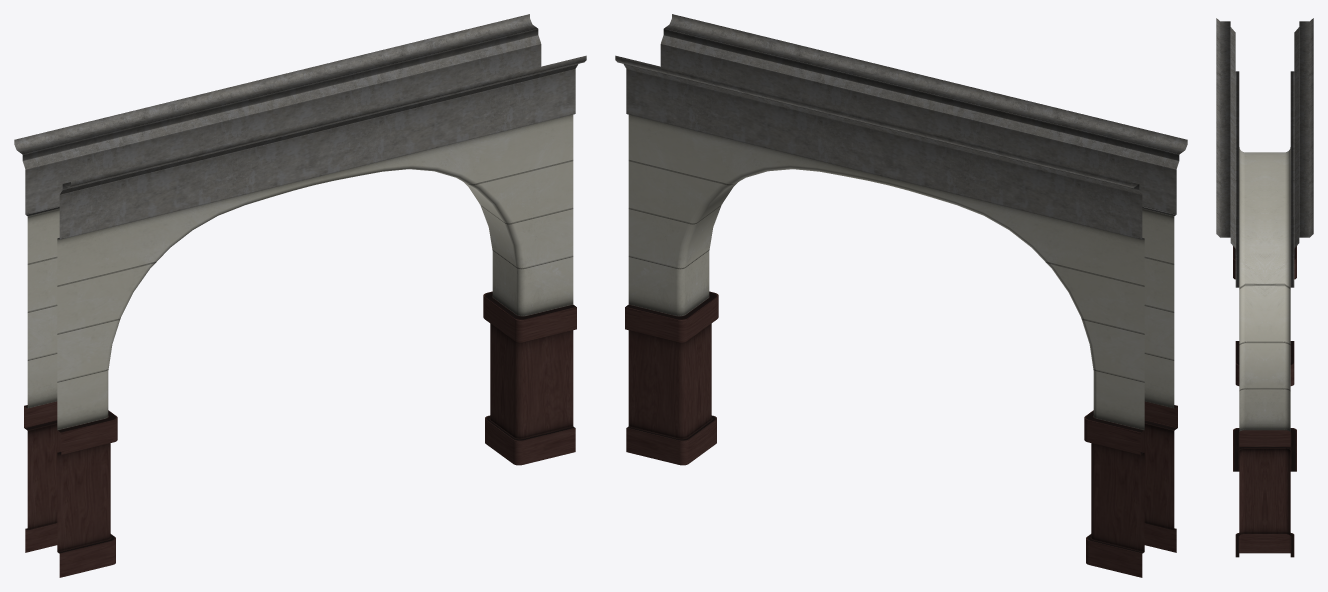
Rendered from Wall 6 Arch 2.fbx.
3 views of the same model, side by side, from view 1: azimuth 30°, elevation 25°; view 2: azimuth 150°, elevation 25°; view 3: azimuth 270°, elevation 25° (orthographic). The views are drawn at different scales.
Parts seen in each view (by area): view 1: Wall_6_Arch_2; view 2: Wall_6_Arch_2; view 3: Wall_6_Arch_2.
Part boxes in pixels (x1,y1,x2,y2): Wall_6_Arch_2: (14,14,586,577); Wall_6_Arch_2: (615,14,1187,577); Wall_6_Arch_2: (1216,18,1313,557).
Bounding box in the file's own units: 400 × 300 × 76.24.
